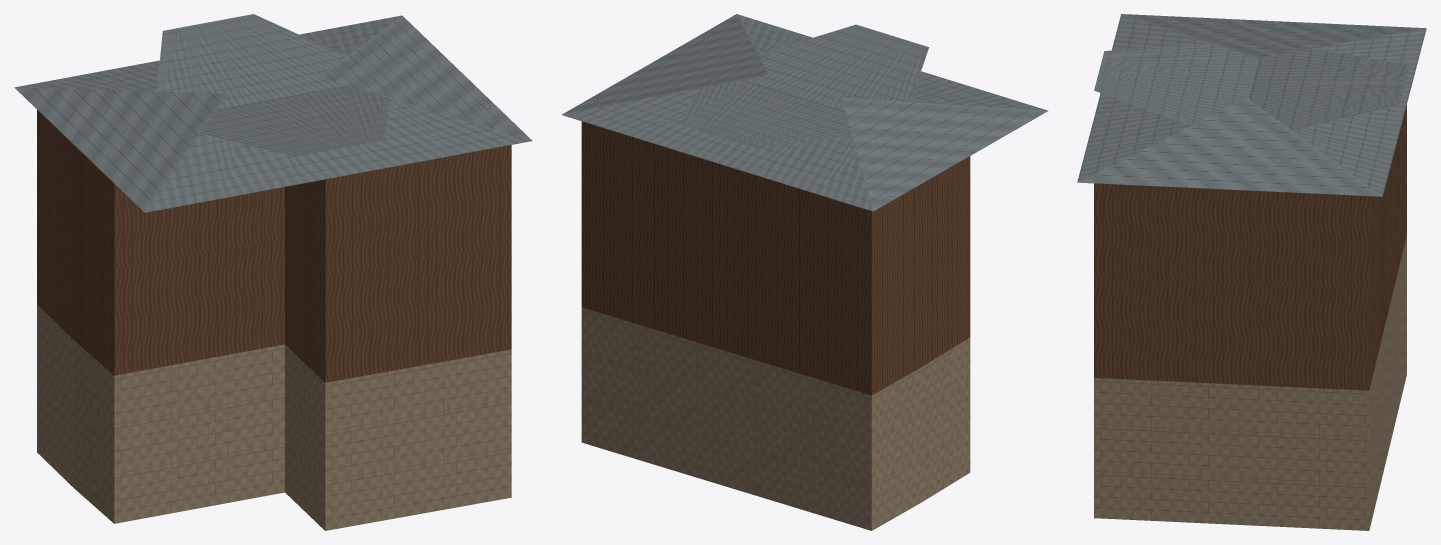
File: bld_c23_46_395.gltf
3 views of the same model, side by side, from view 1: azimuth 30°, elevation 25°; view 2: azimuth 150°, elevation 25°; view 3: azimuth 270°, elevation 25° (orthographic). The views are drawn at different scales.
Visible parts, largest first — view 1: bld_c23_46_395; view 2: bld_c23_46_395; view 3: bld_c23_46_395.
Part boxes in pixels (x1,y1,x2,y2): bld_c23_46_395: (14, 14, 532, 530); bld_c23_46_395: (561, 14, 1048, 530); bld_c23_46_395: (1077, 14, 1426, 530).
Size of the model in its own units: 14.26 by 13.4 by 11.51.
Materials: 3 (3 with a texture image).
